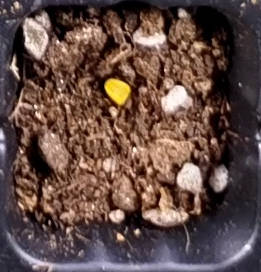chilli seed: (104, 78, 130, 105)
